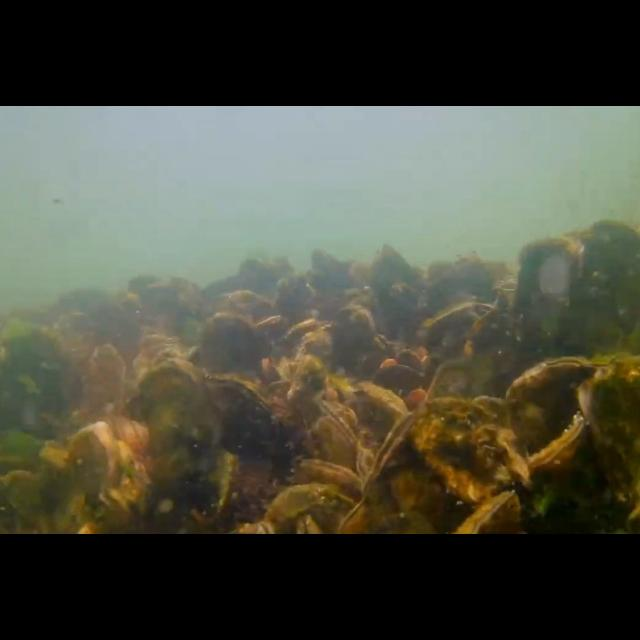Oyster-Closed: (472, 351, 634, 535), (340, 398, 528, 534), (200, 376, 308, 532), (316, 396, 374, 474), (527, 414, 585, 470), (300, 456, 364, 502)
Oyster-Indeterminate: (120, 359, 226, 535), (566, 219, 640, 367), (512, 234, 586, 354), (197, 311, 271, 379), (427, 356, 498, 412), (286, 352, 328, 422), (358, 379, 410, 418)
Oyster-Open: (420, 301, 500, 361)
